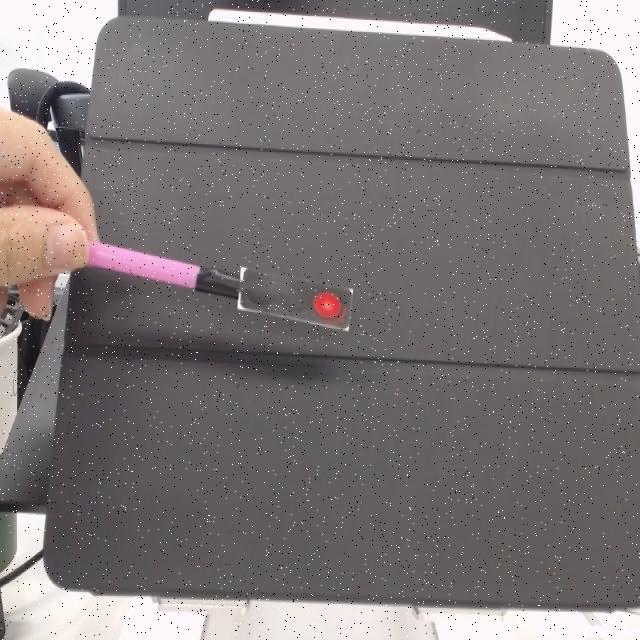traffic light: (235, 268, 356, 336)
